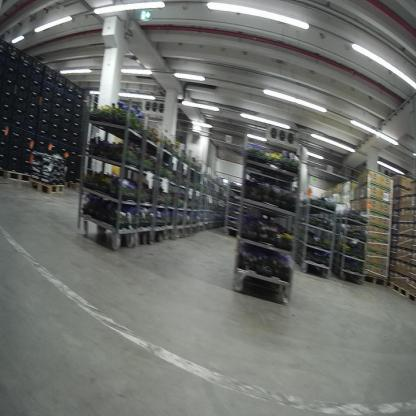pallet: (6, 167, 66, 195), (361, 275, 387, 290), (393, 280, 409, 299), (64, 178, 75, 189), (408, 288, 415, 303), (385, 278, 393, 289), (0, 166, 5, 180)
